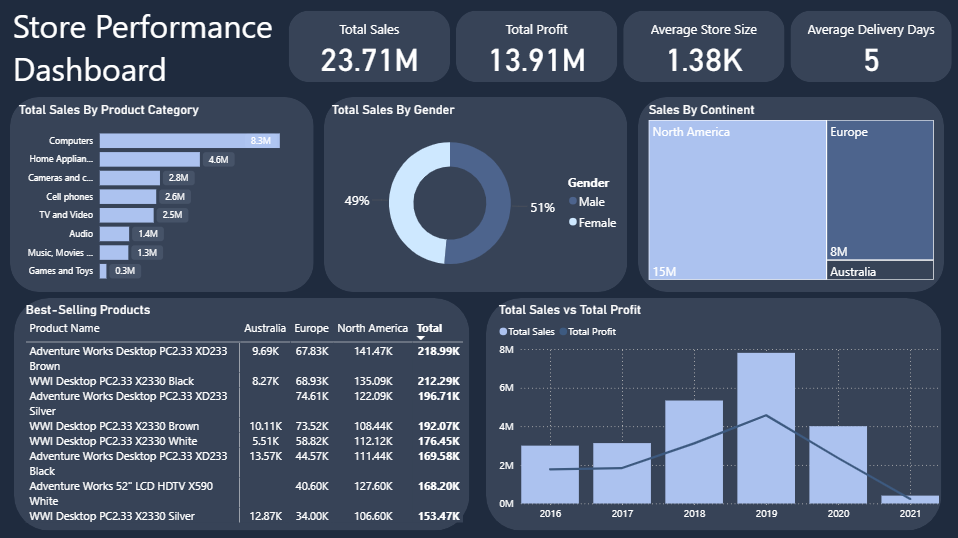

This screenshot's page, from the dashboard's own definition file:
{"tool":"powerbi","page":{"name":"Page 1","canvas":[1280,720],"ordinal":0},"visuals":[{"type":"shape","box":[853,129,408,260],"z":0},{"type":"shape","box":[434,129,404.3,260],"z":1000},{"type":"shape","box":[16,129,405,260],"z":2000},{"type":"shape","box":[651,397,607.2,310.1],"z":3000},{"type":"shape","box":[21,397.1,607.2,310.1],"z":4000},{"type":"clusteredBarChart","title":"Total Sales By Product Category","fields":{"Category":["Category.ProductCategory"],"Y":["Transactions.Total Sales"]},"box":[23.2,136.2,400,250.7],"z":5000},{"type":"donutChart","title":"Total Sales By Gender","fields":{"Y":["Transactions.Total Sales"],"Category":["Customers.CustomerGender"]},"box":[440.6,136.2,400,250.7],"z":6000},{"type":"lineClusteredColumnComboChart","title":"Total Sales vs Total Profit","fields":{"Category":["Orders.OrderDate.Variation.Date Hierarchy.Year"],"Y2":["Transactions.Total Profit"],"Y":["Transactions.Total Sales"]},"box":[662,402.9,597.1,300],"z":7000},{"type":"pivotTable","title":"Best-Selling Products","fields":{"Rows":["Products.ProductName"],"Columns":["Customers.CustomerContinent"],"Values":["Transactions.Total Sales"]},"box":[32,403,597.1,300],"z":8000},{"type":"treemap","title":"Sales By Continent","fields":{"Group":["Customers.CustomerContinent"],"Values":["Transactions.Total Sales"]},"box":[862,136.2,389.9,242],"z":9000},{"type":"cardVisual","title":"jhkghjghj","fields":{"Data":["Transactions.Total Sales","Transactions.Total Profit","Store.Average Store Size","Orders.Average Delivery Days"]},"box":[382.6,8.7,897.1,105.8],"z":10000},{"type":"textbox","box":[14.5,0,368.1,124.6],"z":11000}]}

Visuals, with their boxes in screenshot pixels (x1, y1, x2, y2), scaled from the page's 1280x720 canvas onto the 958x538 screenshot:
shape: Rect(638, 96, 944, 291)
shape: Rect(325, 96, 627, 291)
shape: Rect(12, 96, 315, 291)
shape: Rect(487, 297, 942, 528)
shape: Rect(16, 297, 470, 528)
"Total Sales By Product Category" clusteredBarChart: Rect(17, 102, 317, 289)
"Total Sales By Gender" donutChart: Rect(330, 102, 629, 289)
"Total Sales vs Total Profit" lineClusteredColumnComboChart: Rect(495, 301, 942, 525)
"Best-Selling Products" pivotTable: Rect(24, 301, 471, 525)
"Sales By Continent" treemap: Rect(645, 102, 937, 283)
"jhkghjghj" cardVisual: Rect(286, 7, 957, 86)
textbox: Rect(11, 0, 286, 93)
